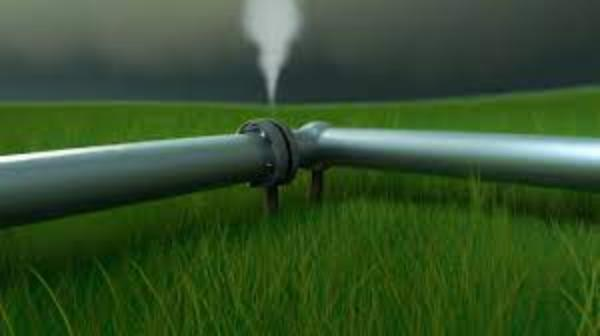gas: (249, 72, 329, 144)
